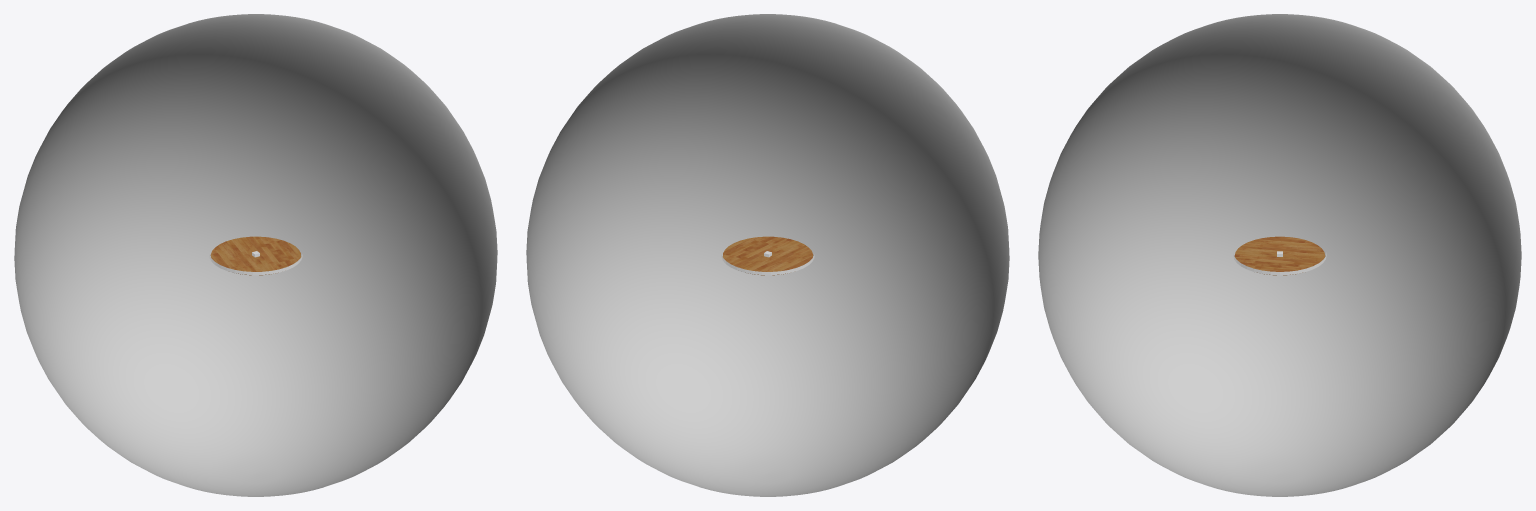
File: gallery.gltf
3 renders of one model, left to right at view 1: azimuth 30°, elevation 25°; view 2: azimuth 150°, elevation 25°; view 3: azimuth 270°, elevation 25°, orthographic.
Visible parts, largest first — view 1: Sphere, Circle; view 2: Sphere, Circle; view 3: Sphere, Circle.
Part boxes in pixels (x1,y1,x2,y2): Sphere: (14,14,497,496); Circle: (210,236,301,275); Sphere: (526,14,1009,496); Circle: (722,236,813,275); Sphere: (1038,14,1521,496); Circle: (1234,236,1325,275).
Bounding box in the file's own units: 160 × 159 × 160.
